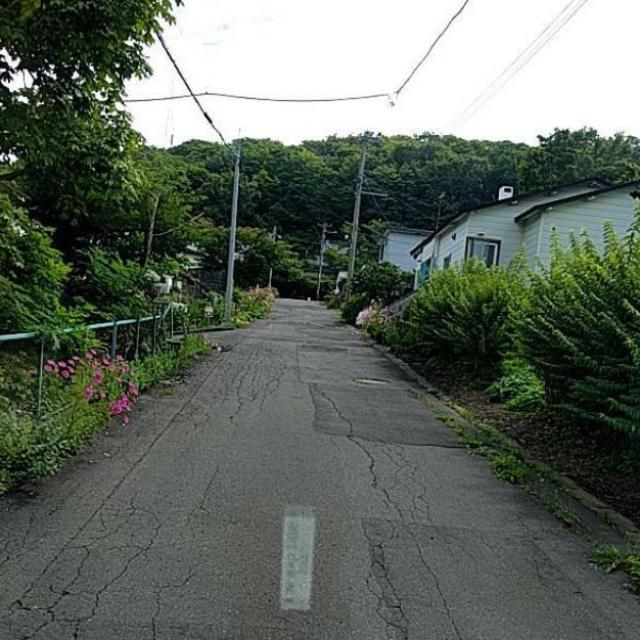Sambungan: (369, 516, 626, 640), (307, 386, 473, 445)
